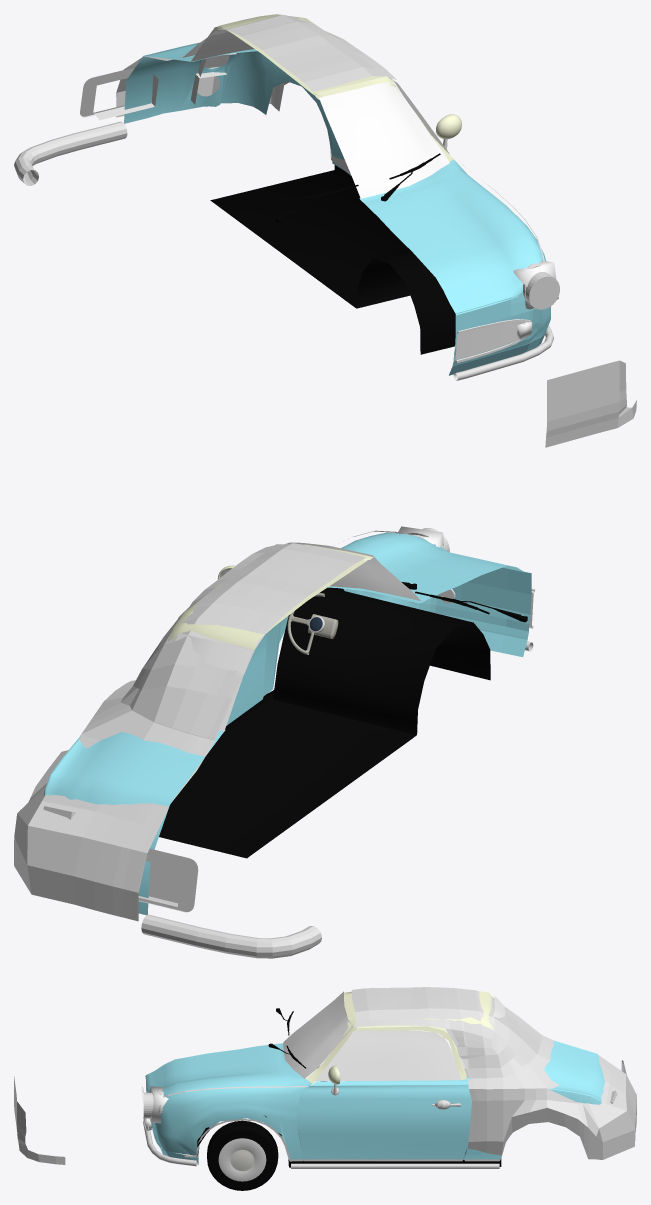
The model's file is Nissan Figaro.glb.
3 views of the same model, one above another, from view 1: azimuth 30°, elevation 25°; view 2: azimuth 150°, elevation 25°; view 3: azimuth 270°, elevation 25° (orthographic). The views are drawn at different scales.
Parts seen in each view (by area): view 1: Plane.003, Plane, Plane.019, Plane.004, Plane.001, Plane.002, Plane.006, Plane.018, Plane.011, Cube, Cylinder, Plane.015 (+1 smaller); view 2: Plane.003, Plane.001, Plane.004, Plane, Plane.006, Plane.018, Cube, Plane.019, Plane.020, Plane.005; view 3: Plane.001, Plane.005, Plane, Plane.021, Plane.004, Plane.019, Cylinder.001, Cylinder.004, Plane.016, Plane.002, Plane.003, Plane.010 (+3 smaller).
Part boxes in pixels (x1,y1,x2,y2): Plane.003: [210, 165, 455, 354]; Plane: [313, 76, 550, 339]; Plane.019: [319, 82, 449, 198]; Plane.004: [124, 14, 383, 176]; Plane.001: [116, 14, 396, 175]; Plane.002: [545, 360, 636, 447]; Plane.006: [449, 293, 544, 375]; Plane.018: [14, 121, 127, 185]; Plane.011: [455, 322, 525, 359]; Cube: [80, 67, 158, 120]; Cylinder: [525, 272, 559, 309]; Plane.015: [453, 325, 553, 380]; Plane.003: [159, 587, 490, 858]; Plane.001: [14, 543, 365, 921]; Plane.004: [43, 560, 366, 915]; Plane: [263, 532, 529, 695]; Plane.006: [418, 567, 531, 657]; Plane.018: [141, 914, 321, 958]; Cube: [138, 848, 198, 912]; Plane.019: [286, 542, 421, 601]; Plane.020: [175, 633, 252, 731]; Plane.005: [226, 633, 267, 725]; Plane.001: [352, 987, 636, 1159]; Plane.005: [296, 1026, 471, 1159]; Plane: [145, 991, 356, 1160]; Plane.021: [316, 1030, 461, 1080]; Plane.004: [353, 991, 604, 1160]; Plane.019: [283, 991, 352, 1078]; Cylinder.001: [207, 1120, 278, 1190]; Cylinder.004: [218, 1138, 266, 1181]; Plane.016: [291, 1163, 499, 1168]; Plane.002: [14, 1076, 65, 1164]; Plane.003: [197, 1115, 501, 1167]; Plane.010: [303, 1159, 462, 1161].
Bounding box in the file's own units: 2.18 × 1.77 × 6.18.
